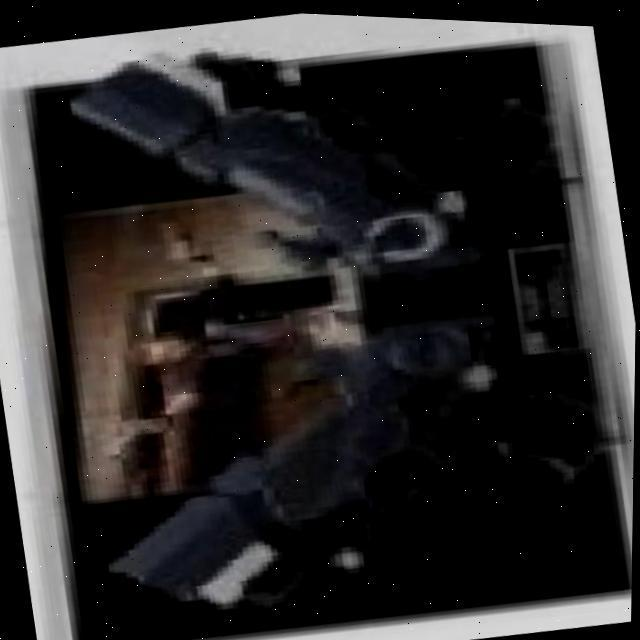gun: (76, 279, 621, 638), (48, 2, 576, 300)
